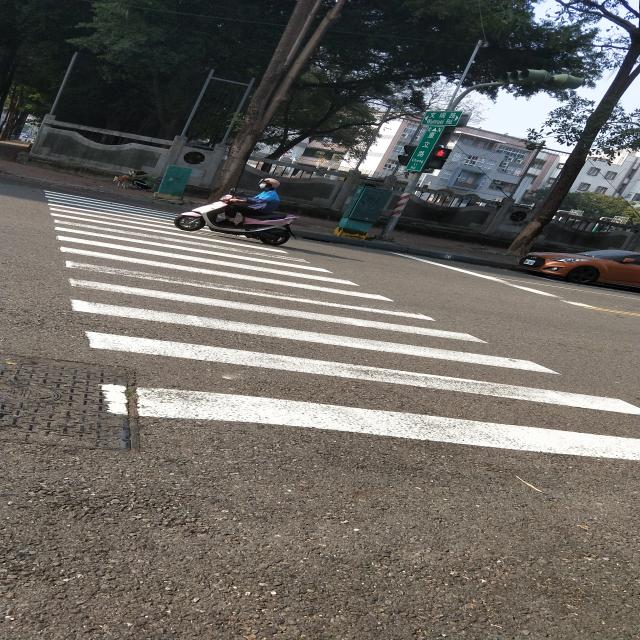person: (224, 178, 280, 221)
zebra crossing: (44, 191, 640, 465)
